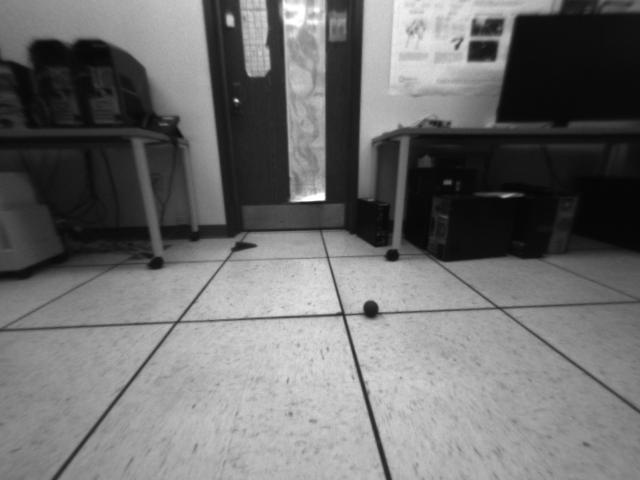dogtoy: (356, 293, 384, 328)
